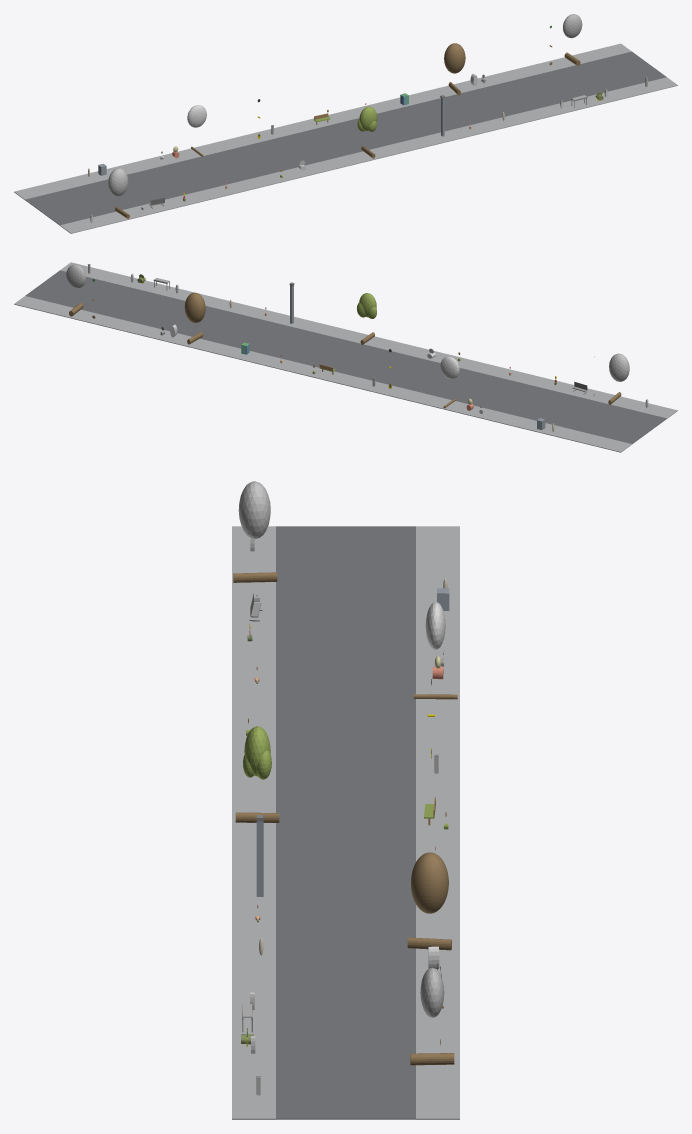
3 renders of one model, top to bottom at view 1: azimuth 30°, elevation 25°; view 2: azimuth 150°, elevation 25°; view 3: azimuth 270°, elevation 25°, orthographic. The views are drawn at different scales.
Visible parts, largest first — view 1: road_slab, sidewalk_left, sidewalk_right, inst_0015, inst_0012, inst_0014, inst_0016, inst_0013; view 2: road_slab, sidewalk_right, sidewalk_left, inst_0015, inst_0012, inst_0014, inst_0016, inst_0013; view 3: road_slab, sidewalk_left, sidewalk_right, inst_0015, inst_0012, inst_0014, inst_0016, inst_0013.
Part boxes in pixels (box(x1,y1,x2,y2)): road_slab: box(25, 51, 666, 225); sidewalk_left: box(60, 77, 677, 233); sidewalk_right: box(14, 43, 631, 199); inst_0015: box(444, 43, 465, 95); inst_0012: box(108, 168, 129, 218); inst_0014: box(357, 106, 377, 158); inst_0016: box(563, 14, 582, 65); inst_0013: box(187, 105, 206, 156); road_slab: box(25, 270, 666, 444); sidewalk_right: box(14, 296, 631, 452); sidewalk_left: box(60, 262, 677, 418); inst_0015: box(184, 292, 205, 344); inst_0012: box(608, 353, 629, 404); inst_0014: box(357, 293, 376, 344); inst_0016: box(66, 264, 86, 316); inst_0013: box(440, 356, 459, 408); road_slab: box(276, 526, 415, 1119); sidewalk_left: box(232, 526, 275, 1119); sidewalk_right: box(416, 526, 459, 1119); inst_0015: box(407, 852, 451, 950); inst_0012: box(233, 481, 277, 582); inst_0014: box(235, 726, 279, 822); inst_0016: box(410, 967, 454, 1065); inst_0013: box(413, 602, 457, 699).
Size of the model in its own units: 80 by 6.08 by 13.
